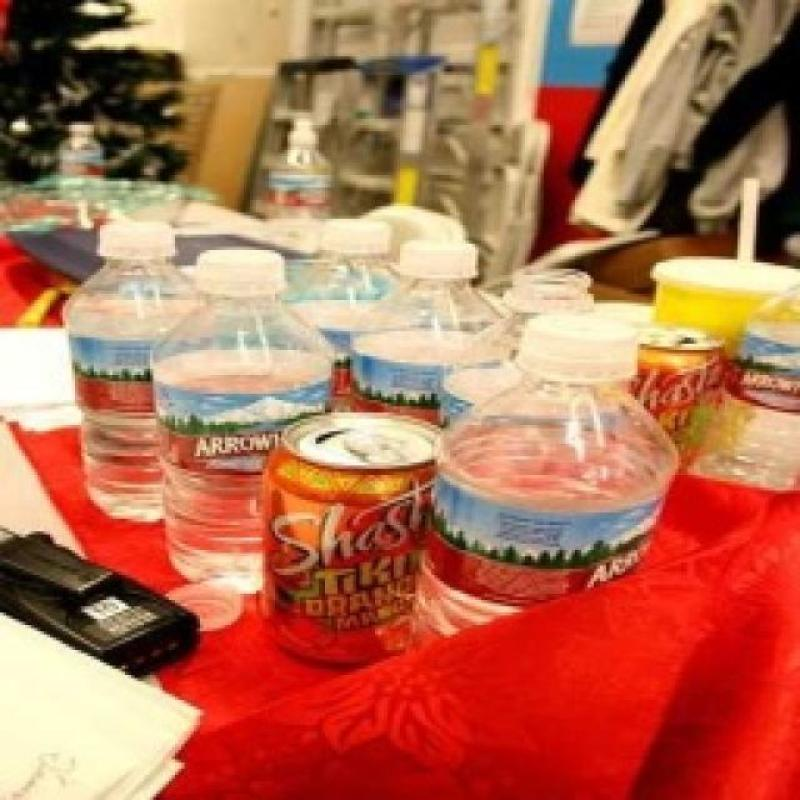botella: (412, 310, 682, 652), (150, 248, 340, 592), (64, 219, 201, 531), (351, 242, 514, 430), (702, 292, 800, 489), (293, 222, 405, 378), (508, 269, 598, 329)
